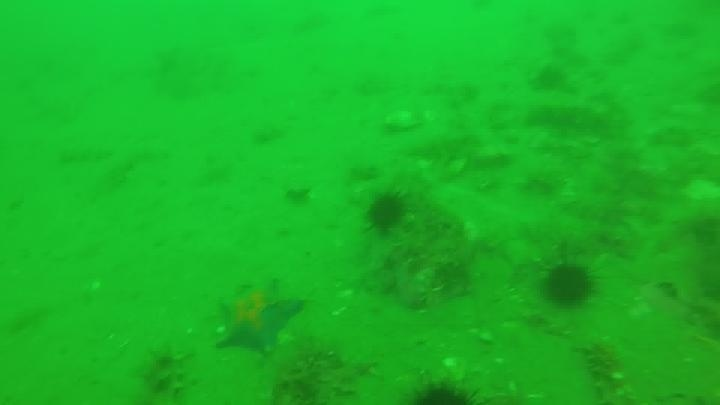echinus: (542, 261, 595, 308), (363, 190, 409, 236), (408, 379, 483, 405), (530, 63, 569, 95)
holothurian: (525, 97, 627, 139), (580, 338, 633, 405), (138, 343, 191, 404), (58, 139, 116, 166)
scallop: (382, 108, 424, 134)
starfish: (213, 278, 307, 357)
